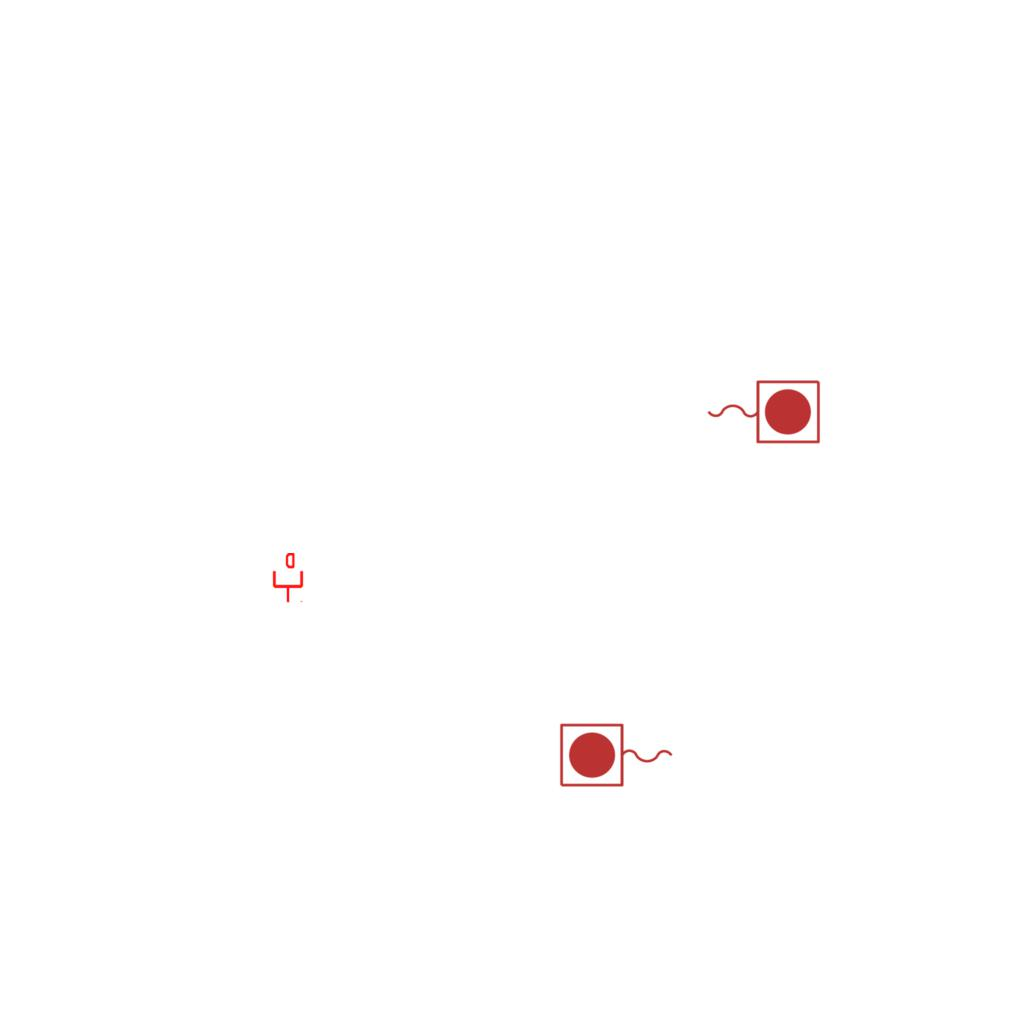Datenanschluss_einfach: (271, 553, 305, 603)
Zugtaster: (556, 720, 678, 792), (702, 375, 824, 447)
